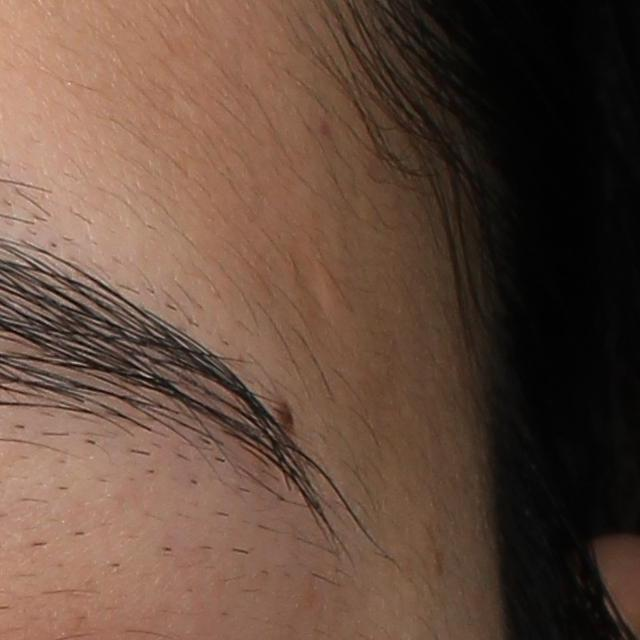atrophic_scar: (289, 255, 334, 316)
nevus: (279, 402, 297, 434)
